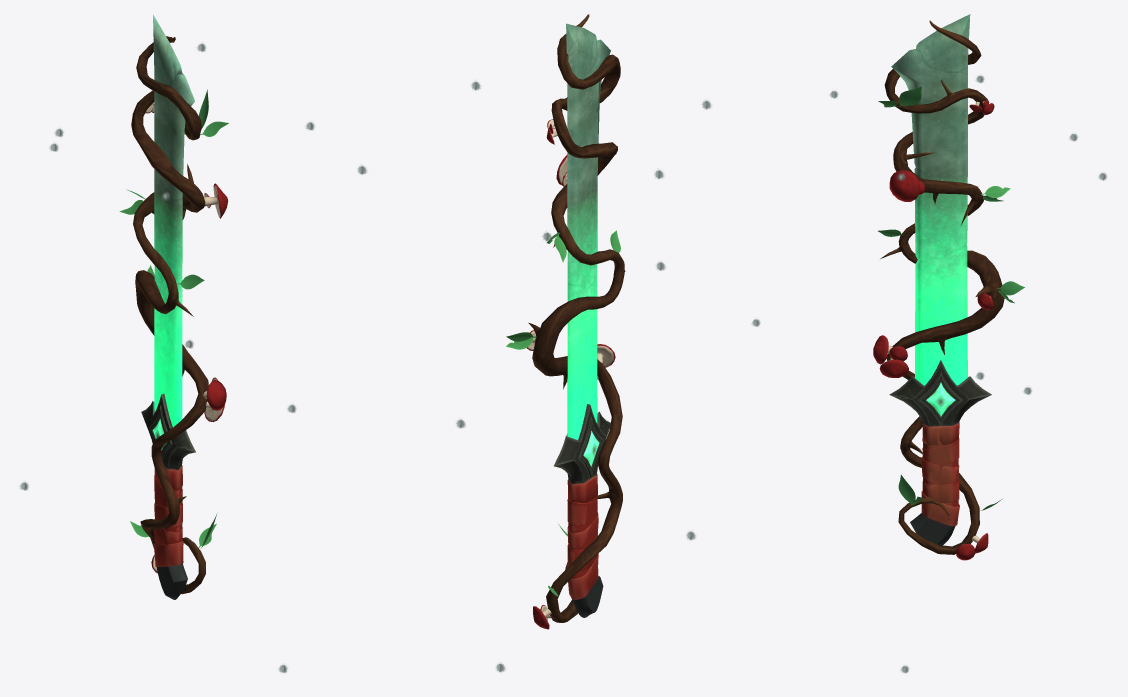
The model's file is magic-sword.glb.
The picture shows the model from 3 angles, left to right: view 1: azimuth 30°, elevation 25°; view 2: azimuth 150°, elevation 25°; view 3: azimuth 270°, elevation 25°; orthographic projection. The views are drawn at different scales.
Visible parts, largest first — view 1: tape_p_3_low; view 2: tape_p_3_low; view 3: tape_p_3_low.
Boxes of the visible parts, box(x1,y1,x2,y2) form: tape_p_3_low: box(19, 14, 314, 672); tape_p_3_low: box(357, 14, 711, 672); tape_p_3_low: box(752, 14, 1106, 673).
Bounding box in the file's own units: 0.4078 × 0.9817 × 0.5267.
Materials: 2 (2 with a texture image).
